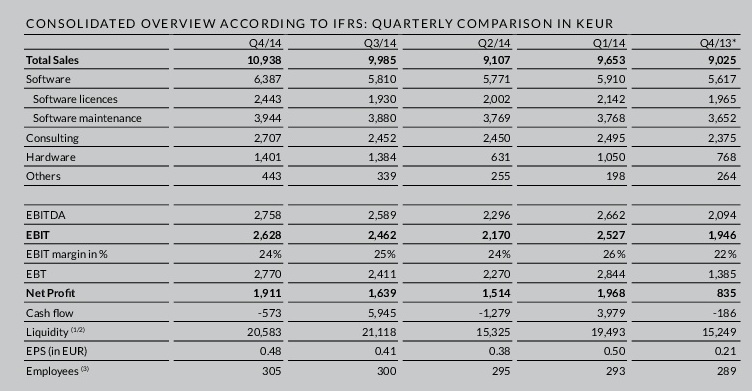table: (0, 0, 752, 391)
